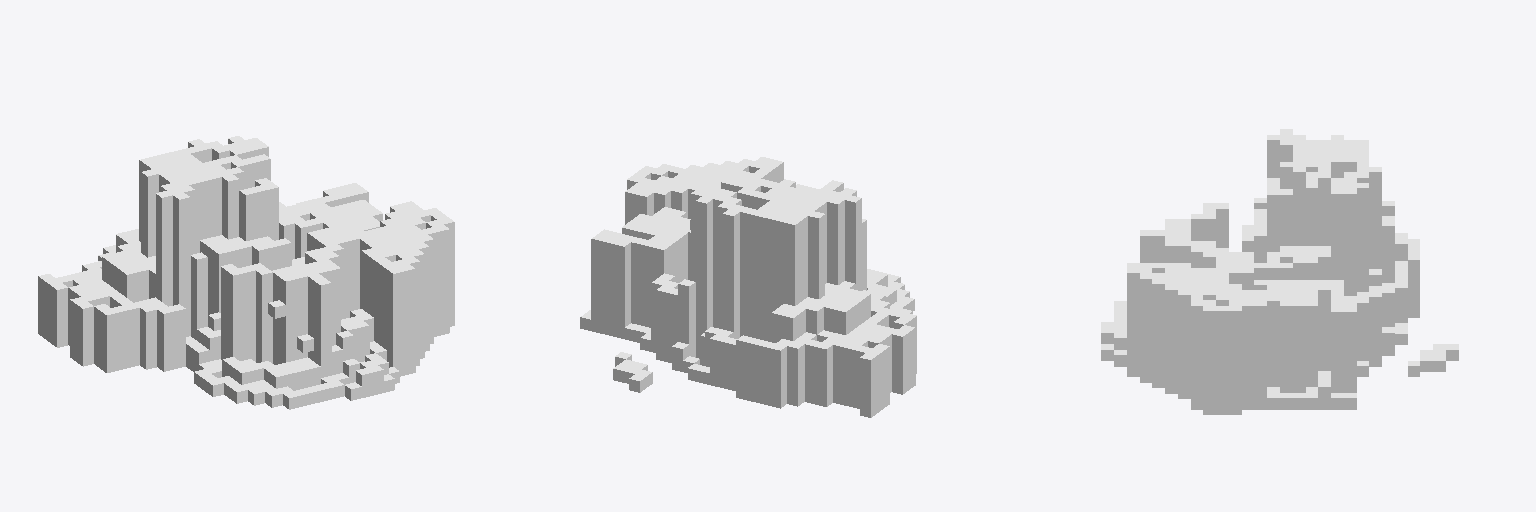
File: roca1.obj
3 renders of one model, left to right at view 1: azimuth 30°, elevation 25°; view 2: azimuth 150°, elevation 25°; view 3: azimuth 270°, elevation 25°, orthographic.
Parts seen in each view (by area): view 1: object 1; view 2: object 1; view 3: object 1.
Boxes of the visible parts, x1,y1,x2,y2 form: object 1: [38, 136, 454, 409]; object 1: [580, 157, 916, 417]; object 1: [1101, 129, 1458, 414].
Bounding box in the file's own units: 2.9 × 1.4 × 2.8.